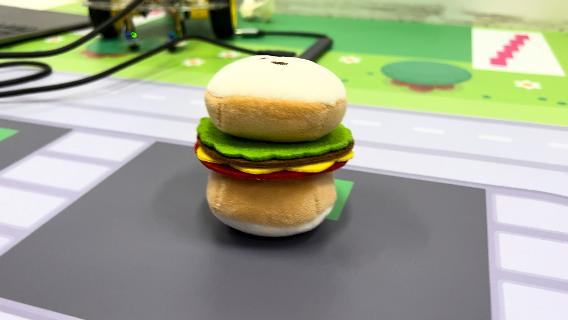sandwich: (192, 52, 358, 238)
